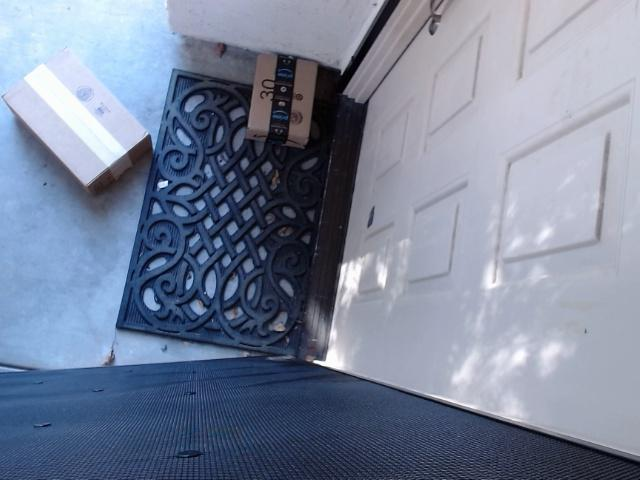box: (2, 42, 157, 195), (242, 35, 336, 167)
